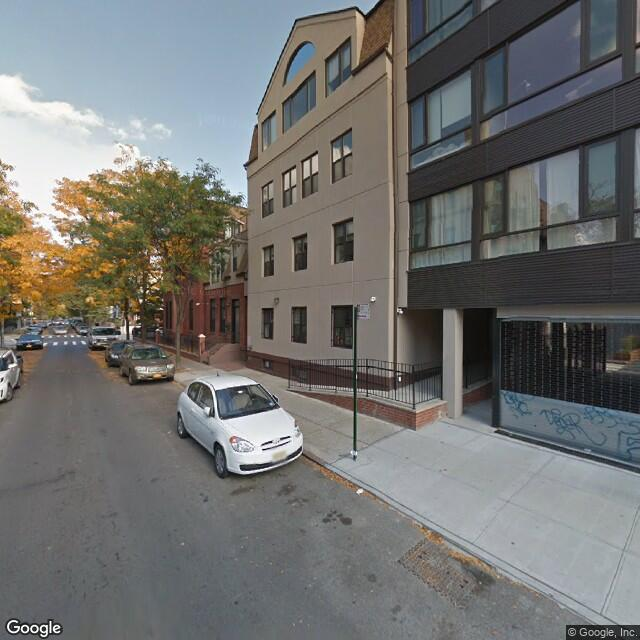litter: (351, 476, 379, 500)
